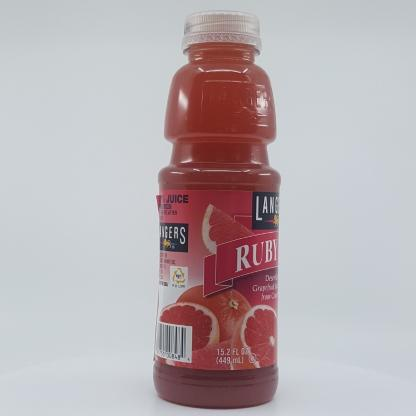-----449ML: (153, 10, 281, 408)
